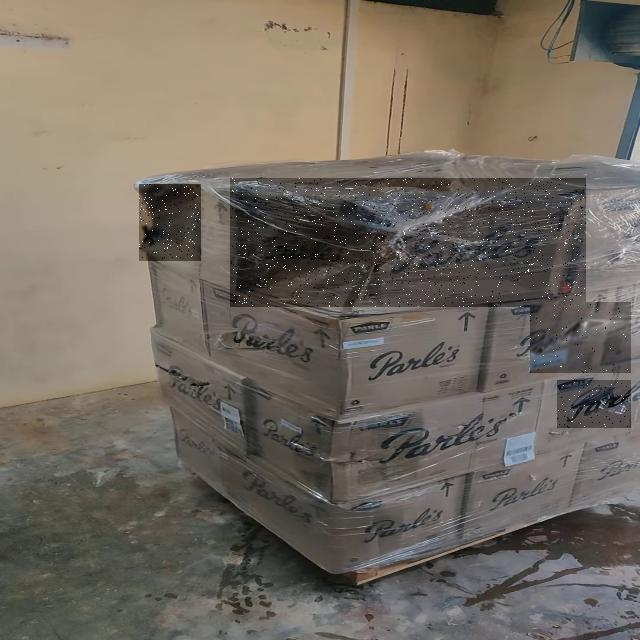squeeze: (231, 178, 586, 307), (140, 185, 200, 259)
tear: (531, 302, 630, 373), (557, 380, 631, 428)
